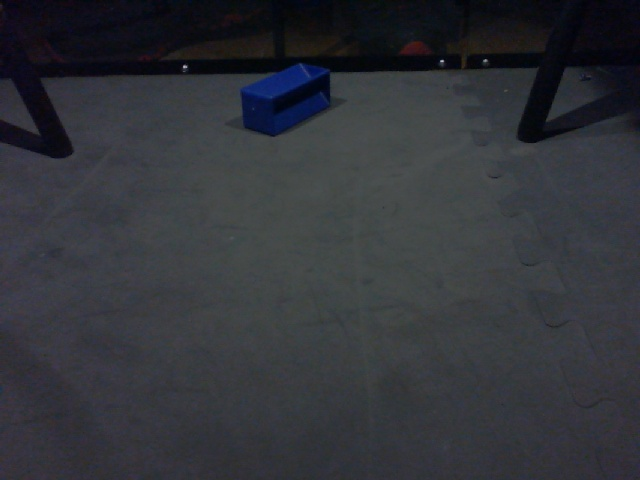BlueSample: (234, 60, 331, 137)
